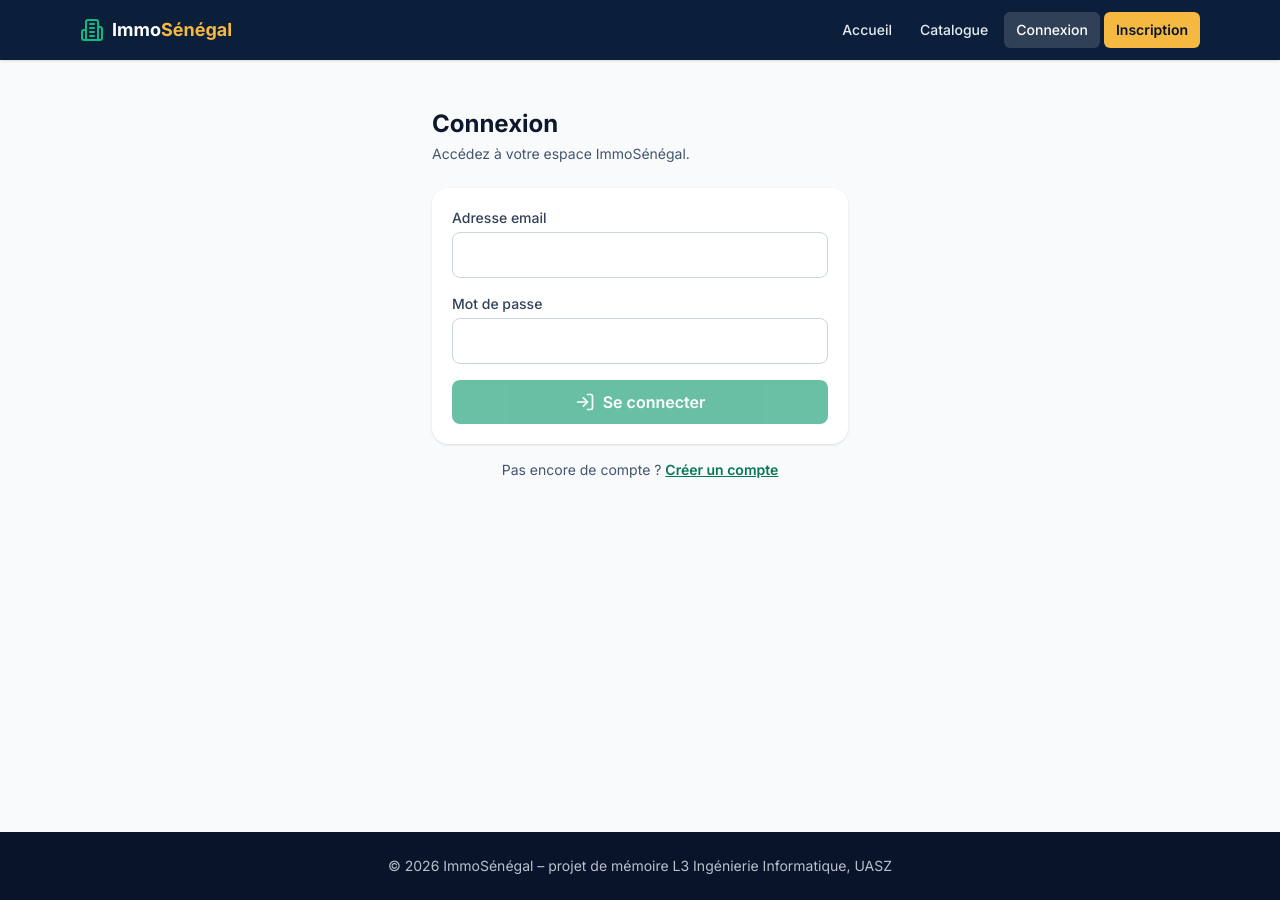
Test case: Session longue (cookie HttpOnly) › la connexion demande au navigateur de garder le cookie ; le jeton reste hors du stockage du navigateur
The width and height of the screenshot is (1280, 900).
Type "khady@example.test" into the field labelled "Adresse email". click: (640, 255)
box: [452,232,828,278]
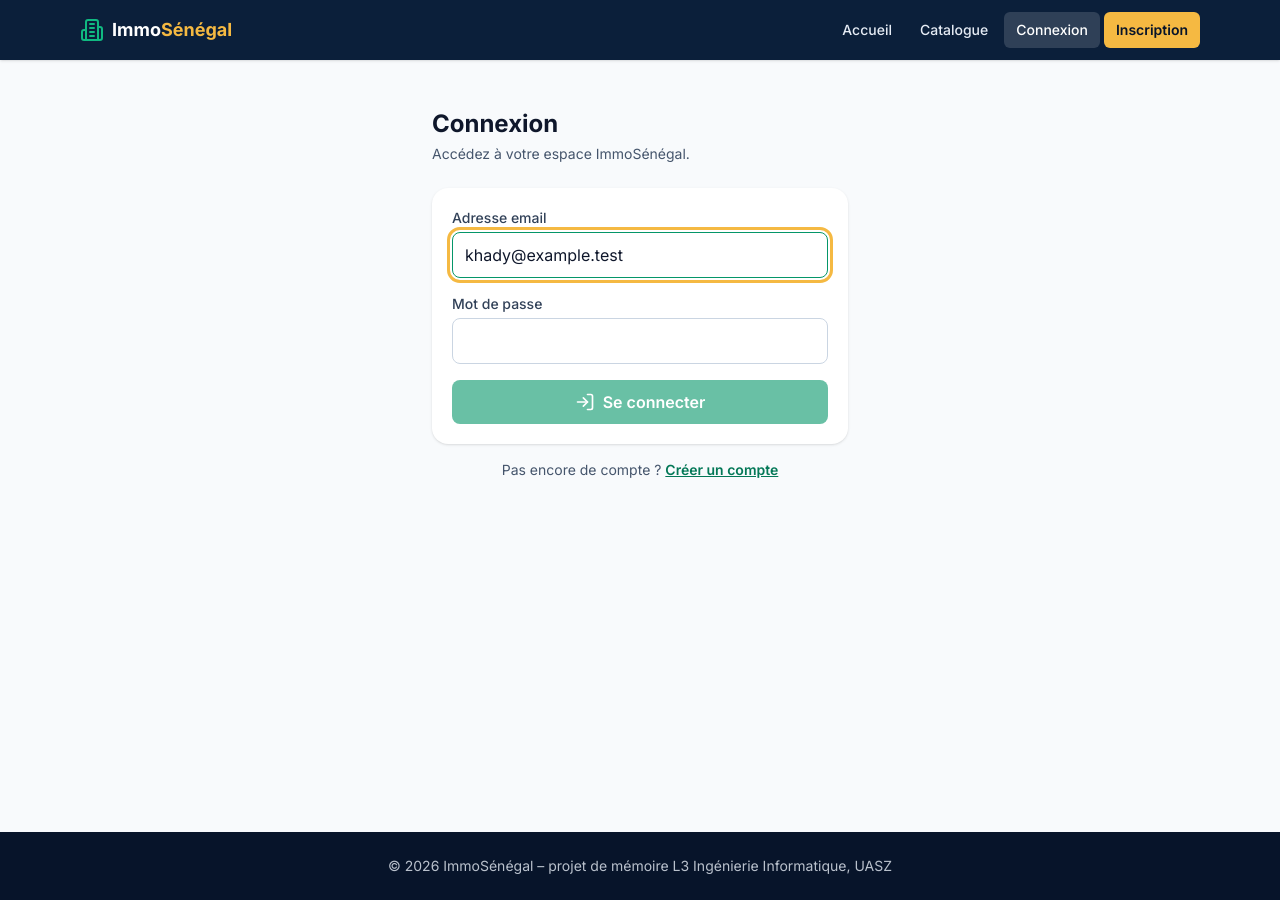
Type "MotDePasse-Solide-123" into the password field labelled "Mot de passe". click: (640, 341)
box: [452,318,828,364]
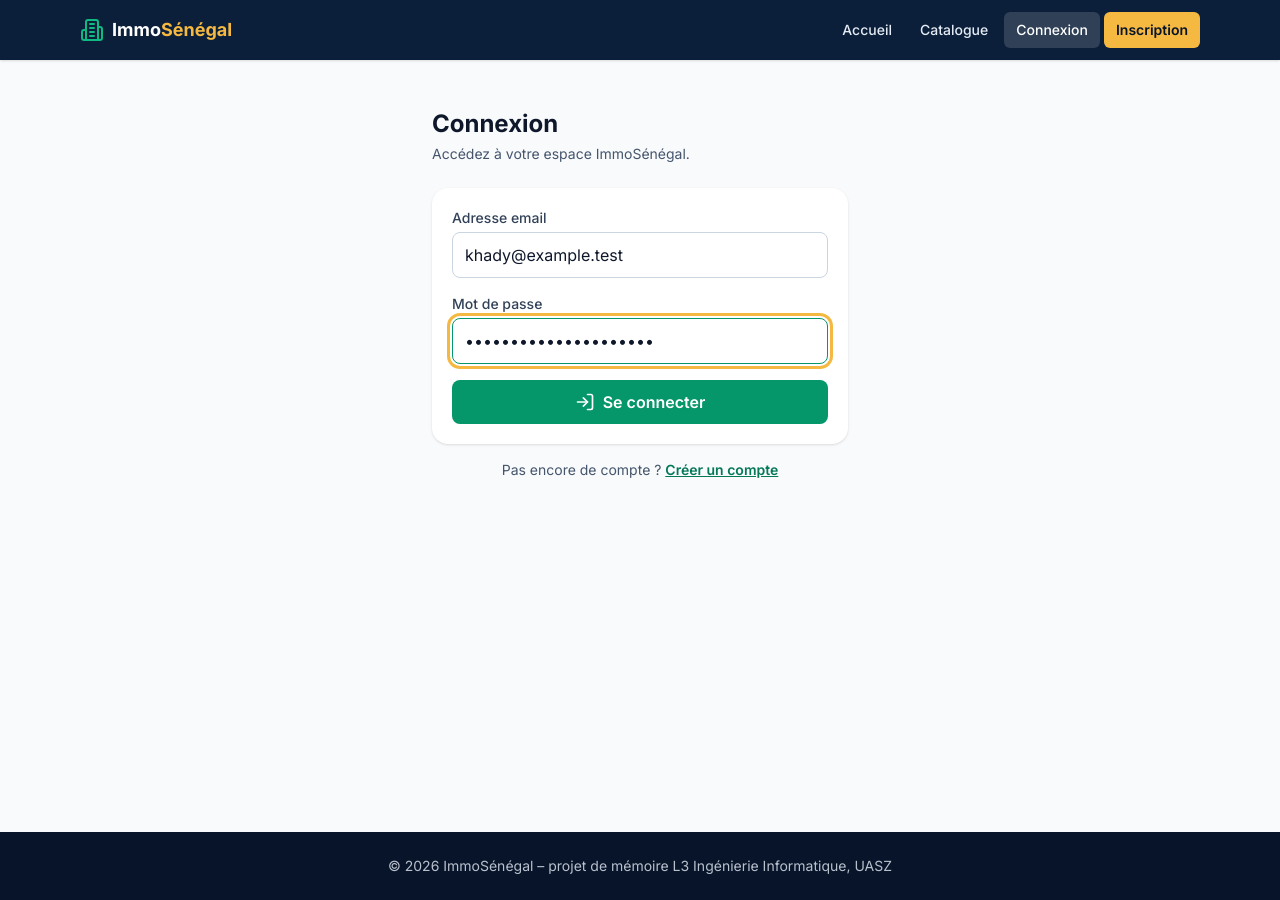
Click the button "Se connecter". click: (640, 402)
box: [452,380,828,424]
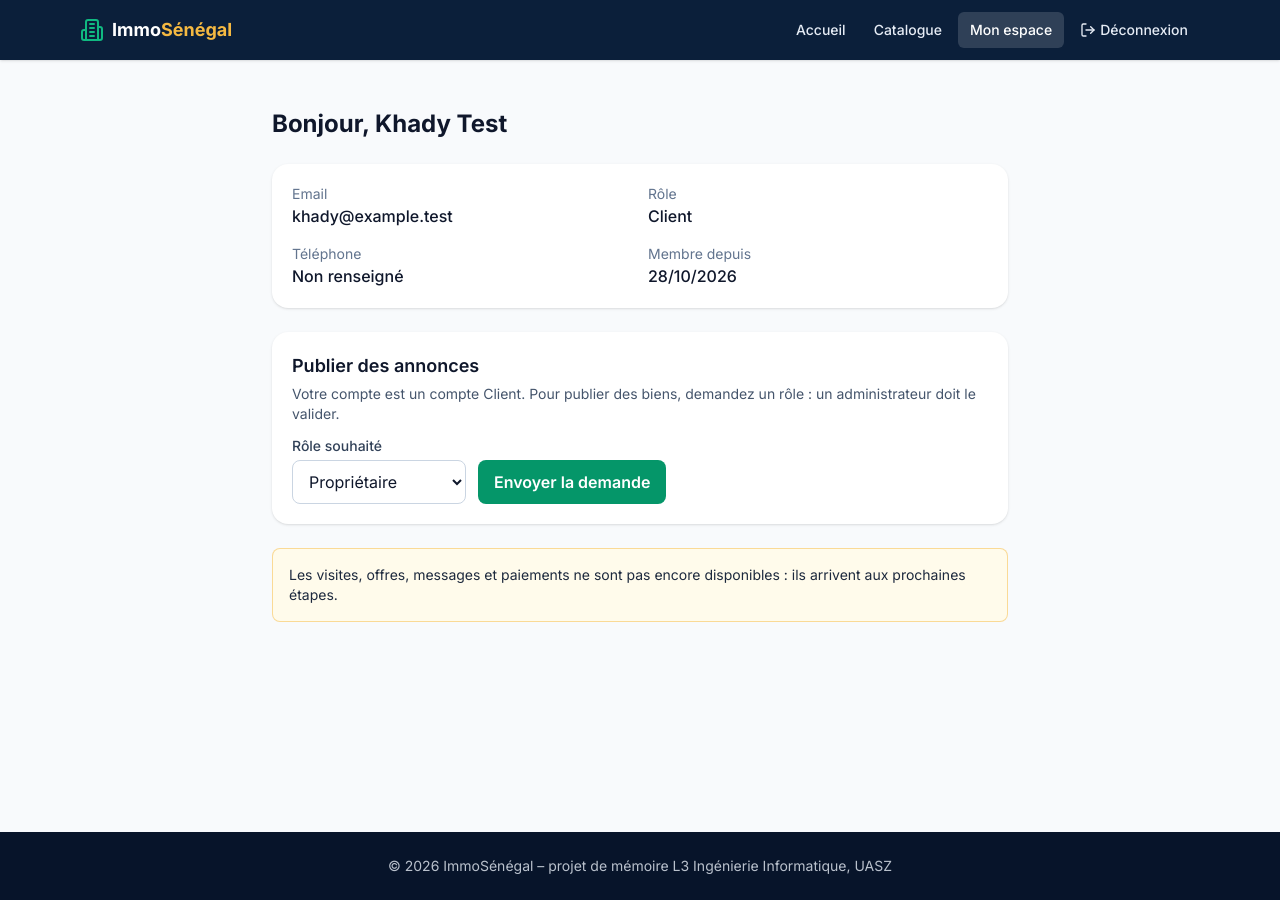
expect the heading "Bonjour, Khady Test" is shown: met, box [272,109,507,138]
